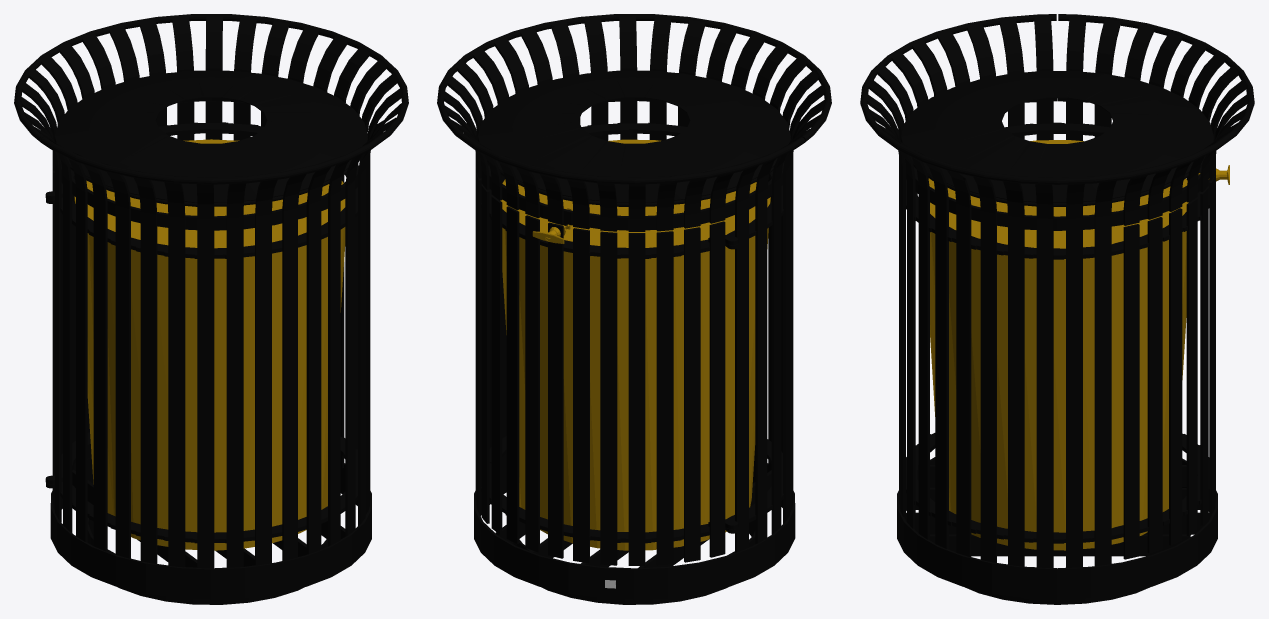
The picture shows the model from 3 angles, left to right: view 1: azimuth 30°, elevation 25°; view 2: azimuth 150°, elevation 25°; view 3: azimuth 270°, elevation 25°; orthographic projection.
Visible parts, largest first — view 1: mesh60.002_mesh60-geometry, mesh49.002_mesh49-geometry, mesh5.002_mesh5-geometry, mesh9.030_mesh9-geometry, mesh9.038_mesh9-geometry, mesh9.032_mesh9-geometry, mesh9.036_mesh9-geometry, mesh9.040_mesh9-geometry, mesh9.035_mesh9-geometry, mesh9.027_mesh9-geometry, mesh9.033_mesh9-geometry, mesh19.002_mesh19-geometry (+33 smaller); view 2: mesh60.002_mesh60-geometry, mesh49.002_mesh49-geometry, mesh5.002_mesh5-geometry, mesh19.002_mesh19-geometry, mesh13.024_mesh13-geometry, mesh13.019_mesh13-geometry, mesh13.016_mesh13-geometry, mesh13.023_mesh13-geometry, mesh13.021_mesh13-geometry, mesh13.018_mesh13-geometry, mesh9.023_mesh9-geometry, mesh13.015_mesh13-geometry (+41 smaller); view 3: mesh60.002_mesh60-geometry, mesh49.002_mesh49-geometry, mesh5.002_mesh5-geometry, mesh9.039_mesh9-geometry, mesh9.041_mesh9-geometry, mesh9.028_mesh9-geometry, mesh9.031_mesh9-geometry, mesh9.024_mesh9-geometry, mesh9.034_mesh9-geometry, mesh19.002_mesh19-geometry, mesh13.014_mesh13-geometry, mesh13.022_mesh13-geometry (+37 smaller).
Part boxes in pixels (x1,y1,x2,y2): mesh60.002_mesh60-geometry: (74, 139, 345, 550); mesh49.002_mesh49-geometry: (55, 70, 367, 202); mesh5.002_mesh5-geometry: (50, 457, 371, 599); mesh9.030_mesh9-geometry: (226, 176, 246, 567); mesh9.038_mesh9-geometry: (196, 184, 214, 568); mesh9.032_mesh9-geometry: (164, 175, 185, 567); mesh9.036_mesh9-geometry: (134, 171, 157, 563); mesh9.040_mesh9-geometry: (255, 172, 280, 565); mesh9.035_mesh9-geometry: (282, 165, 313, 560); mesh9.027_mesh9-geometry: (103, 163, 130, 558); mesh9.033_mesh9-geometry: (306, 156, 341, 554); mesh19.002_mesh19-geometry: (14, 14, 408, 184); mesh60.002_mesh60-geometry: (500, 139, 770, 550); mesh49.002_mesh49-geometry: (478, 70, 790, 202); mesh5.002_mesh5-geometry: (474, 462, 795, 599); mesh19.002_mesh19-geometry: (437, 14, 831, 184); mesh13.024_mesh13-geometry: (656, 231, 673, 565); mesh13.019_mesh13-geometry: (600, 231, 617, 565); mesh13.016_mesh13-geometry: (628, 233, 645, 565); mesh13.023_mesh13-geometry: (684, 227, 700, 562); mesh13.021_mesh13-geometry: (573, 228, 589, 563); mesh13.018_mesh13-geometry: (709, 221, 725, 557); mesh9.023_mesh9-geometry: (735, 153, 770, 552); mesh13.015_mesh13-geometry: (548, 222, 563, 558); mesh60.002_mesh60-geometry: (928, 140, 1188, 550); mesh49.002_mesh49-geometry: (901, 71, 1213, 202); mesh5.002_mesh5-geometry: (897, 457, 1217, 599); mesh9.039_mesh9-geometry: (1035, 184, 1053, 568); mesh9.041_mesh9-geometry: (1094, 180, 1116, 566); mesh9.028_mesh9-geometry: (1003, 181, 1024, 566); mesh9.031_mesh9-geometry: (1066, 184, 1084, 567); mesh9.024_mesh9-geometry: (973, 176, 996, 562); mesh9.034_mesh9-geometry: (947, 170, 971, 556); mesh19.002_mesh19-geometry: (860, 14, 1254, 184); mesh13.014_mesh13-geometry: (1123, 224, 1139, 559); mesh13.022_mesh13-geometry: (1147, 217, 1162, 553).
Size of the model in its own units: 0.5259 by 0.669 by 0.5253.
